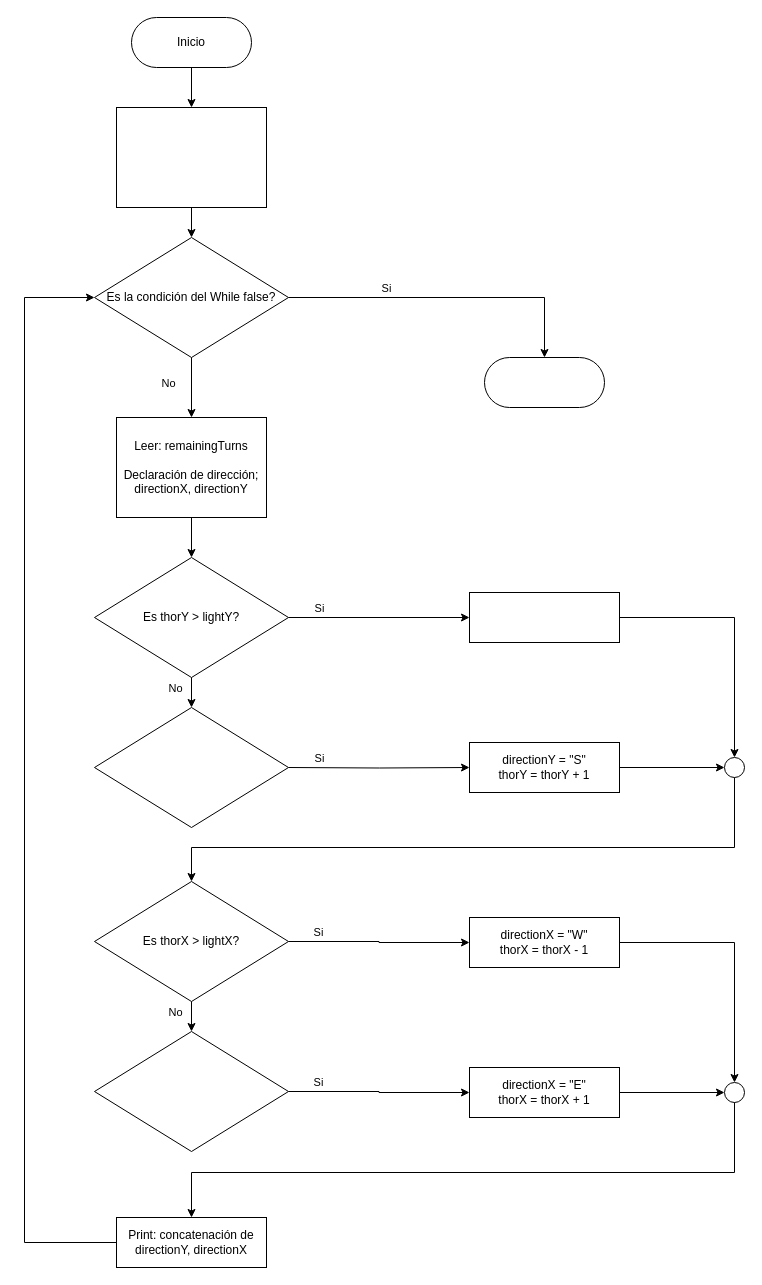
The diagram is 762 pixels wide and 1285 high, and some of its shapes have lost their labels. Here are the shapes that lost their labels. From the top down, the centre of each, then its label:
pixel 191 157: Declaración de condiciones iniciales thorX, thorY
pixel 544 382: Fin
pixel 544 617: directionY = "N" thorY = thorY - 1
pixel 191 767: Es thorY < lightY?
pixel 191 1091: Es thorX < lightX?
